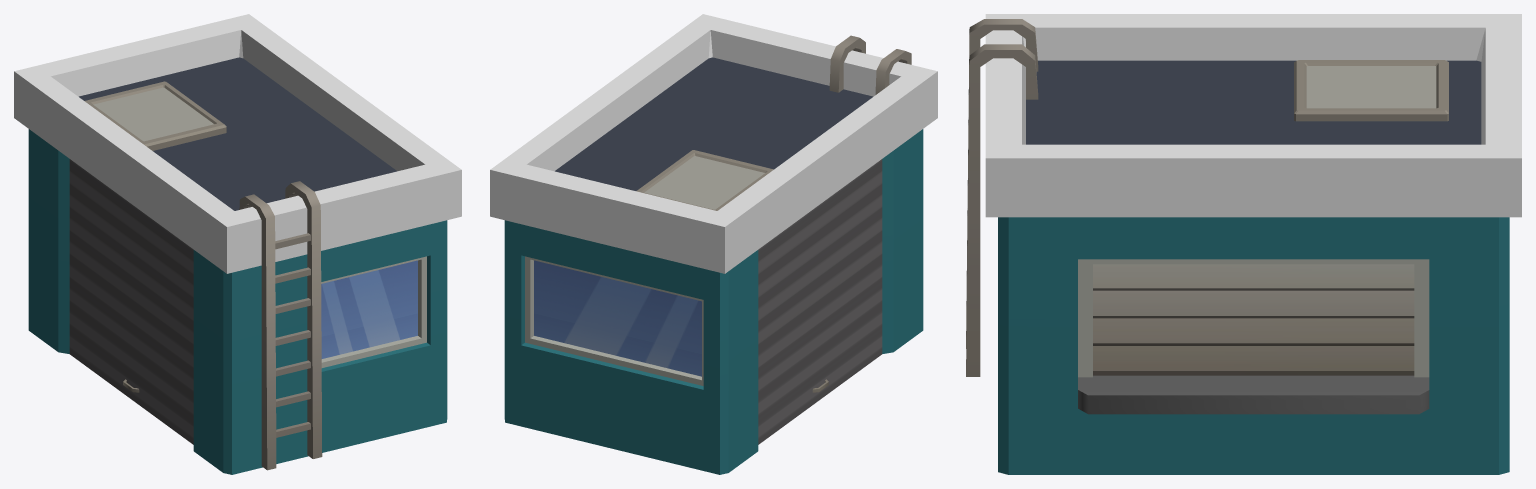
File: Kiosk_1_E.fbx
The picture shows the model from 3 angles, left to right: view 1: azimuth 30°, elevation 25°; view 2: azimuth 150°, elevation 25°; view 3: azimuth 270°, elevation 25°; orthographic projection. The views are drawn at different scales.
Visible parts, largest first — view 1: Kiosk_1_E; view 2: Kiosk_1_E; view 3: Kiosk_1_E.
Boxes of the visible parts, x1=… form: Kiosk_1_E: x1=14, y1=14, x2=461, y2=474; Kiosk_1_E: x1=490, y1=14, x2=937, y2=474; Kiosk_1_E: x1=966, y1=14, x2=1521, y2=474.
Bounding box in the file's own units: 297 × 304 × 454.
